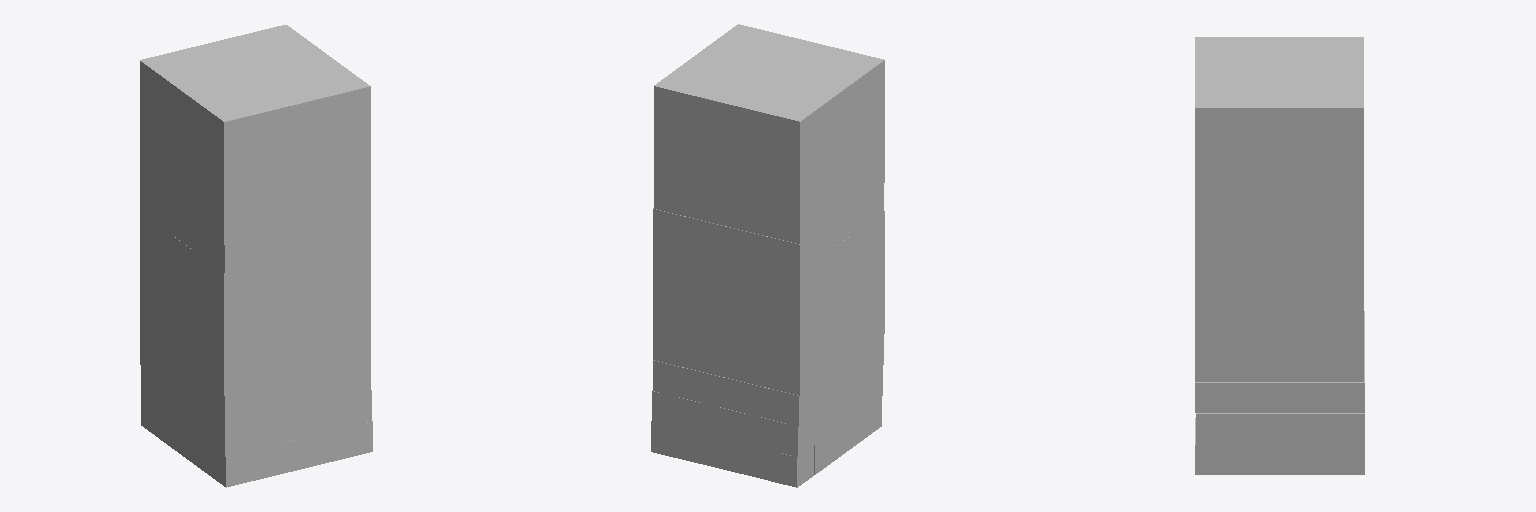
Rendered from protominus.obj.
3 renders of one model, left to right at view 1: azimuth 30°, elevation 25°; view 2: azimuth 150°, elevation 25°; view 3: azimuth 270°, elevation 25°, orthographic.
Parts seen in each view (by area): view 1: Cube.007; view 2: Cube.007; view 3: Cube.007.
Boxes of the visible parts, x1,y1,x2,y2 form: Cube.007: [140, 25, 372, 487]; Cube.007: [651, 24, 884, 487]; Cube.007: [1195, 37, 1364, 474].
Bounding box in the file's own units: 0.3167 × 0.7456 × 0.3143.